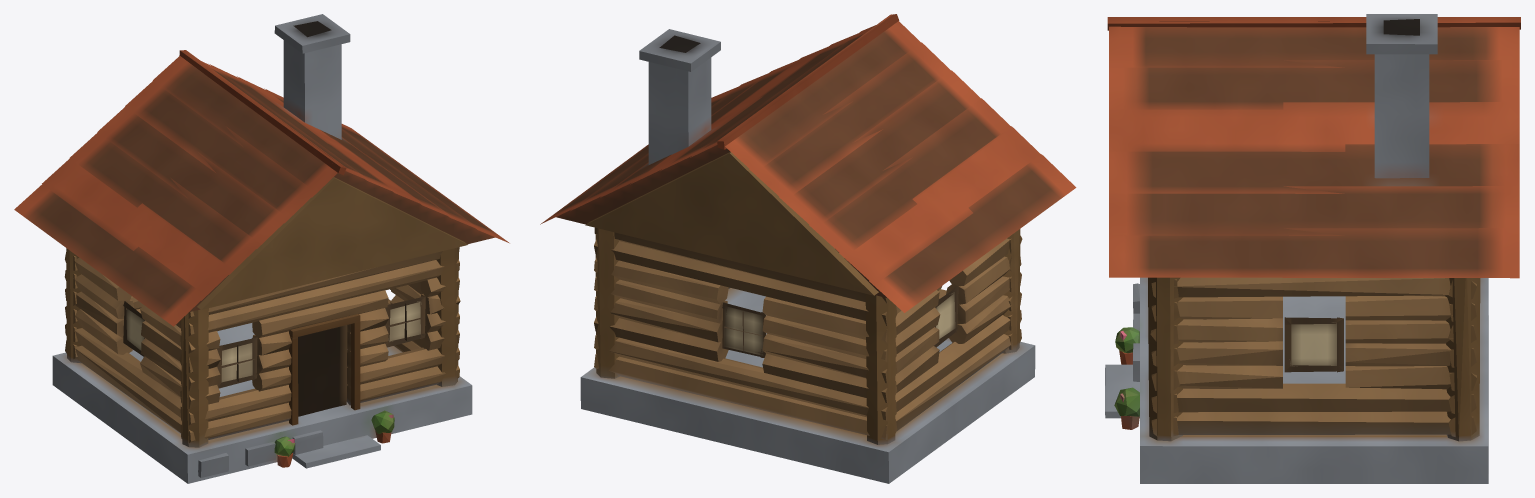
The model's file is house.lo.glb.
3 renders of one model, left to right at view 1: azimuth 30°, elevation 25°; view 2: azimuth 150°, elevation 25°; view 3: azimuth 270°, elevation 25°, orthographic. The views are drawn at different scales.
Parts seen in each view (by area): view 1: house.001; view 2: house.001; view 3: house.001.
Boxes of the visible parts, x1,y1,x2,y2 form: house.001: (14, 14, 509, 483); house.001: (540, 14, 1076, 483); house.001: (1105, 14, 1520, 483).
Size of the model in its own units: 8.03 by 7.43 by 6.64.
Materials: 1 (1 with a texture image).
